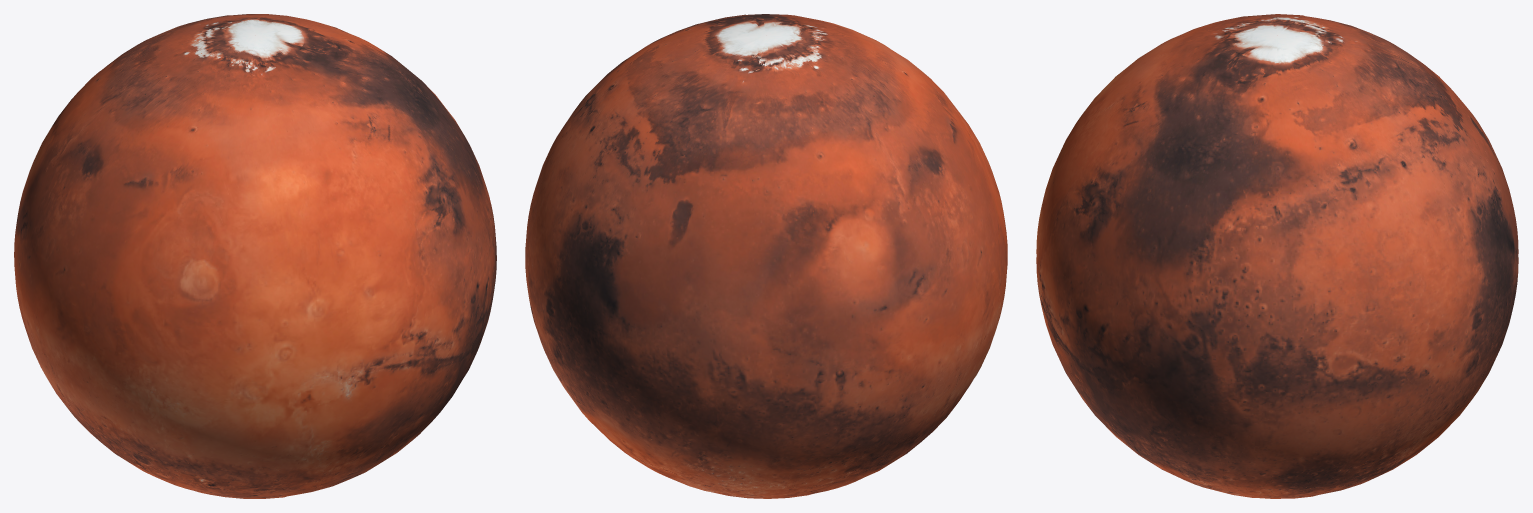
File: mars.glb
3 renders of one model, left to right at view 1: azimuth 30°, elevation 25°; view 2: azimuth 150°, elevation 25°; view 3: azimuth 270°, elevation 25°, orthographic.
Visible parts, largest first — view 1: Сфера; view 2: Сфера; view 3: Сфера.
Boxes of the visible parts, x1,y1,x2,y2 form: Сфера: (14,14,496,498); Сфера: (525,14,1007,498); Сфера: (1036,14,1518,498).
Bounding box in the file's own units: 1.97 × 2 × 1.97.
Materials: 1 (1 with a texture image).
